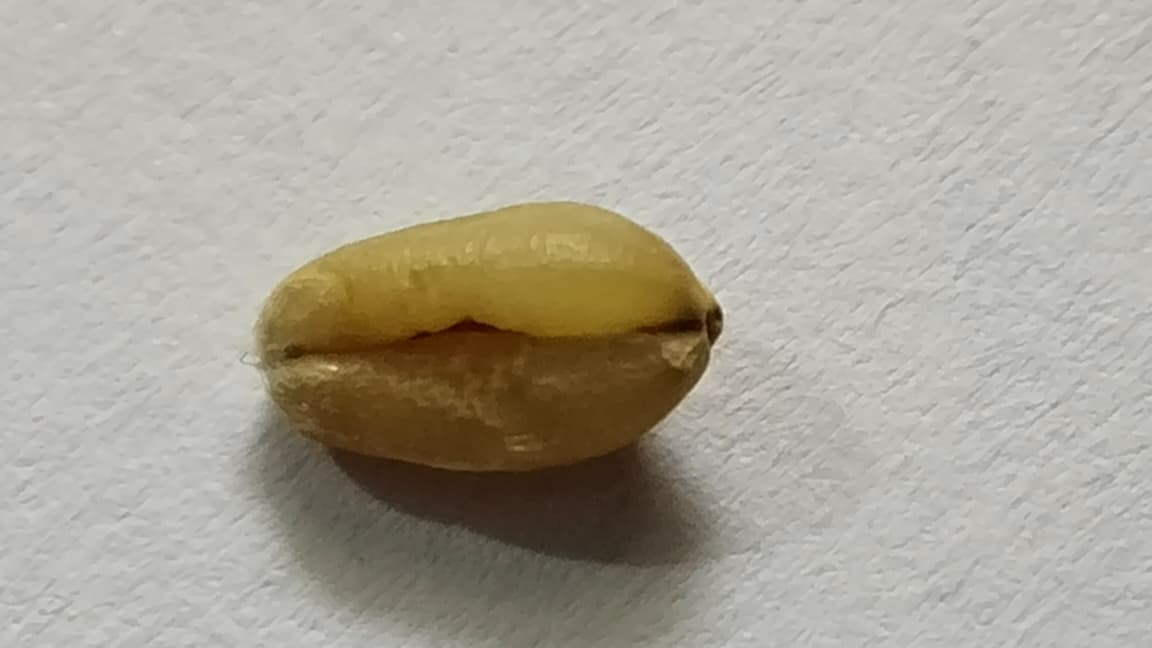healthy: (256, 202, 721, 470)
